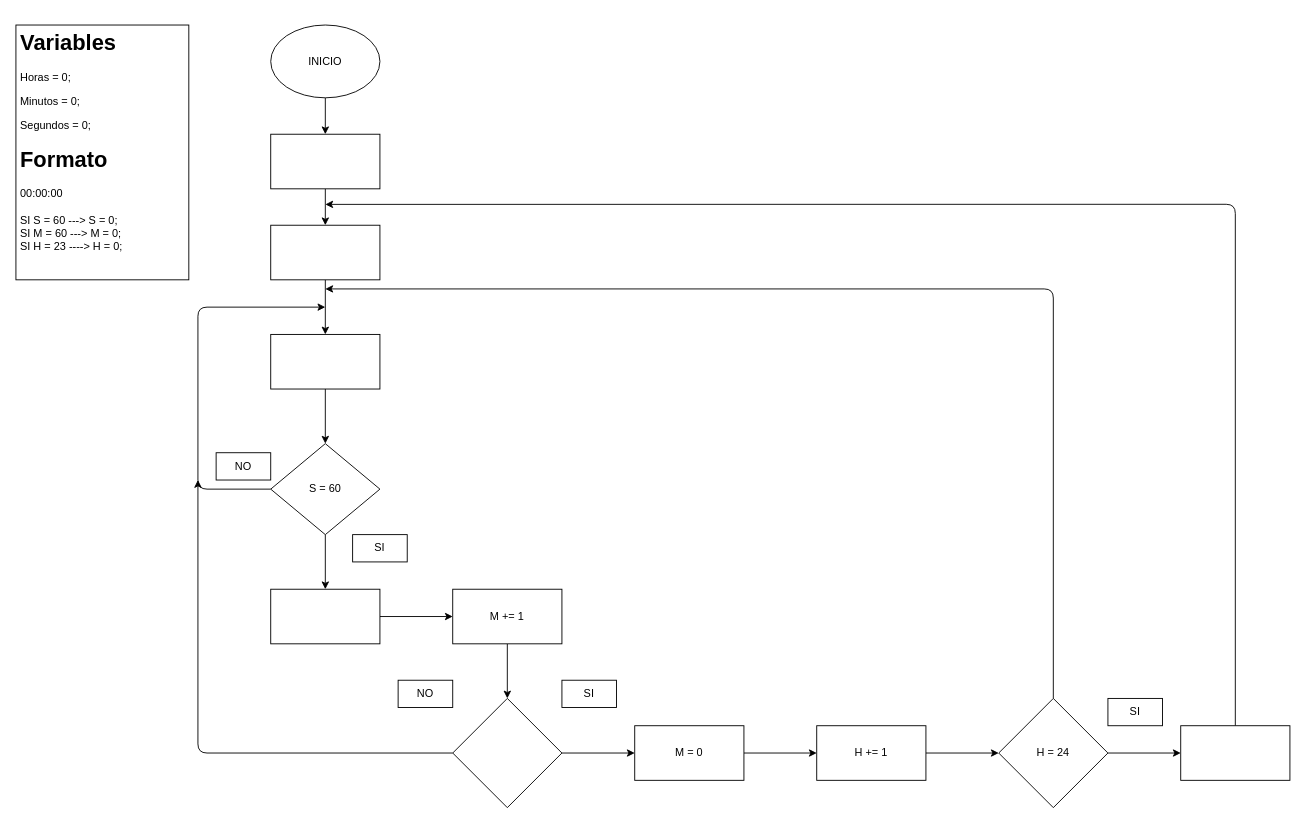
The diagram is 1306 pixels wide and 824 high, and some of its shapes have lost their labels. The shapes that lost their labels are listed below. From the top down, each one's centre as x and y in pixels, then its label:
pixel 325 161: h = 0; m = 0; s = 0;
pixel 325 252: print(00:00:00)
pixel 325 361: S +=1
pixel 325 616: S = 0
pixel 507 753: M = 60
pixel 1235 752: H = 0
